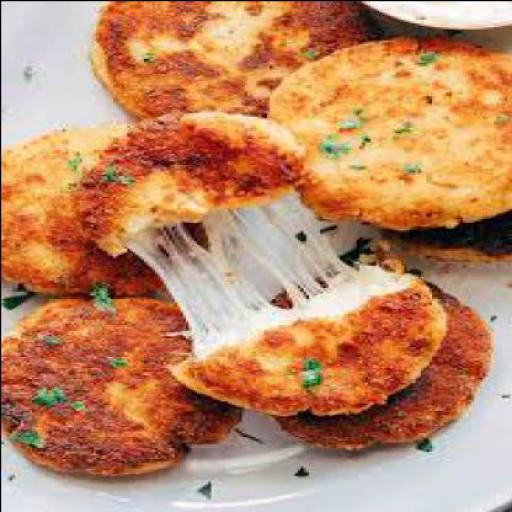biodegradable: (68, 106, 442, 413), (263, 30, 509, 228), (255, 260, 490, 448), (1, 290, 241, 474), (84, 1, 378, 127), (2, 126, 204, 294), (369, 206, 510, 264)
